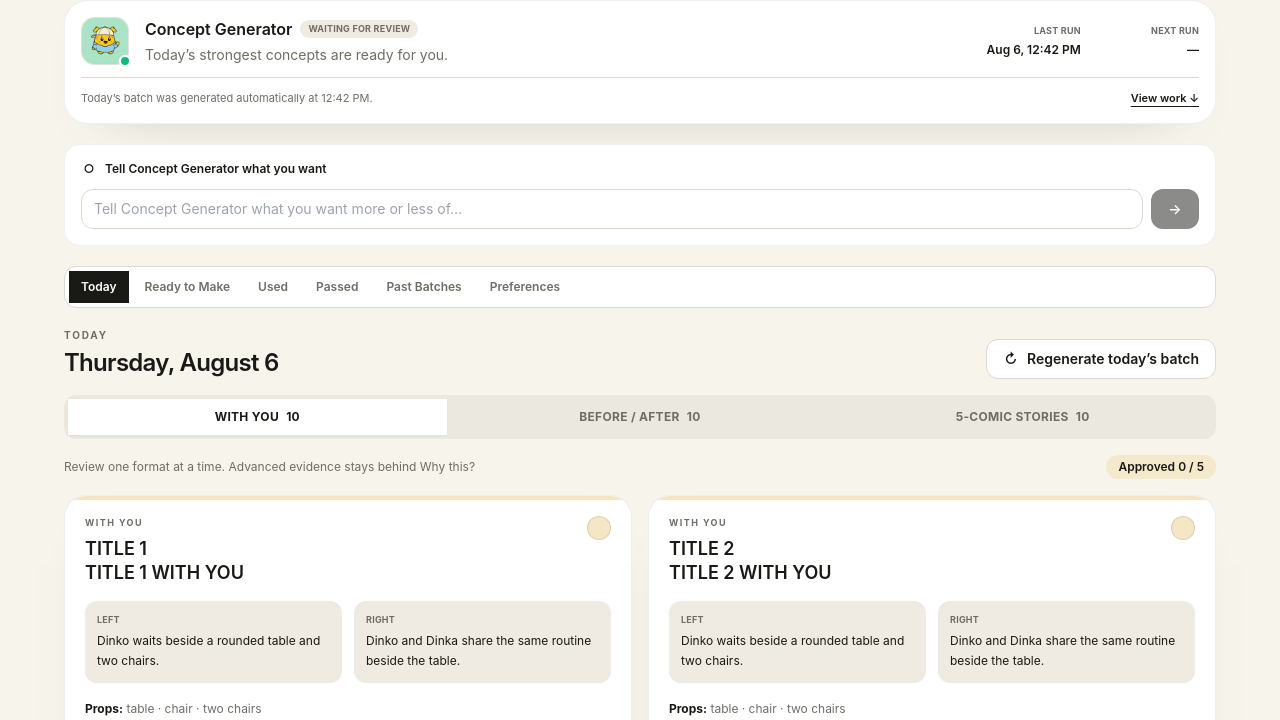
Concept Generator › stores chat feedback and shows an honest missing-provider state
Type "Less couch scenes" into the field with placeholder "Tell Concept Generator what you want more or less of…". click: x=612, y=208
box: [81, 188, 1143, 228]
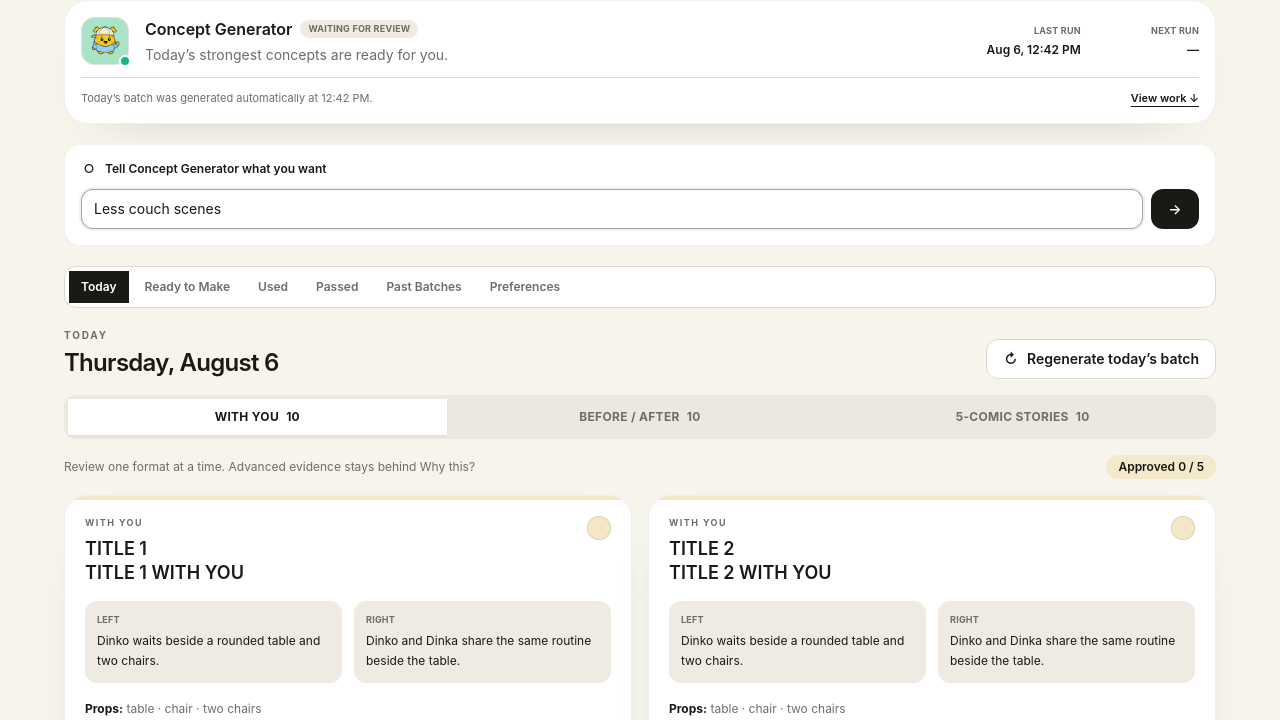
Click the button named "Send feedback". click: x=1175, y=208
box: [1151, 188, 1199, 228]
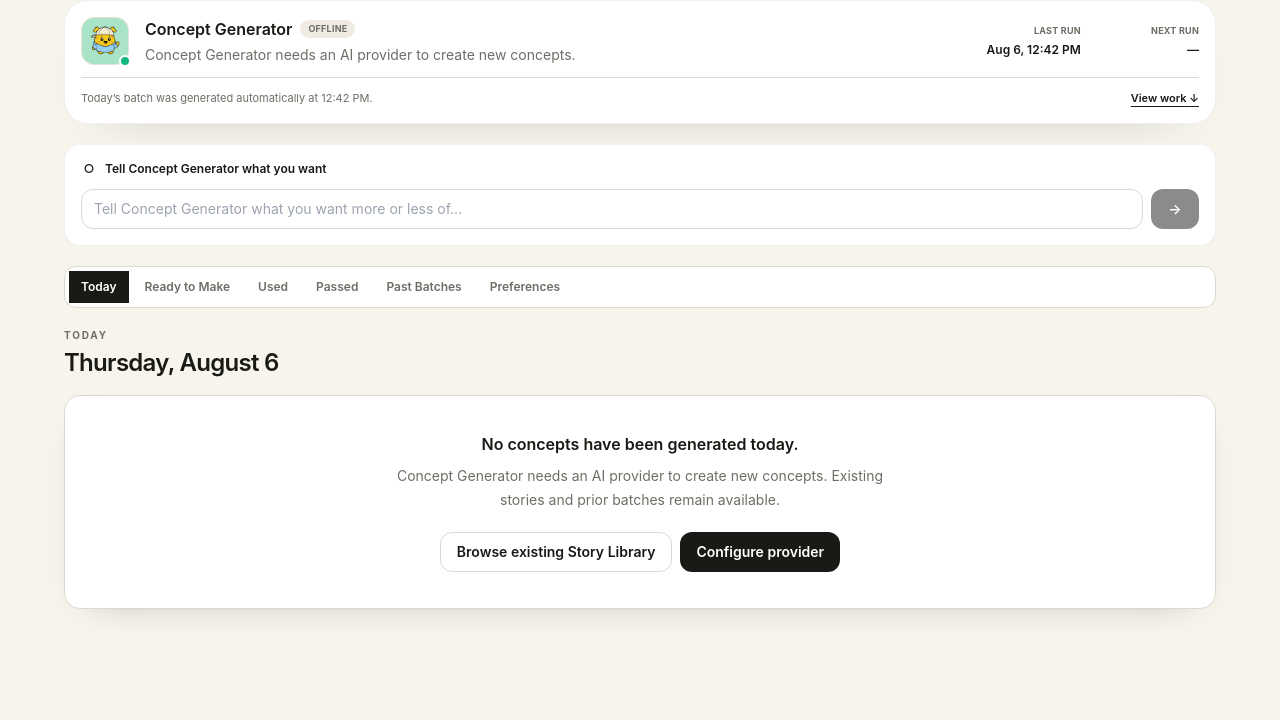
Check: the text "Concept Generator needs an AI provider to create new concepts." is shown, box [145, 46, 576, 63]
